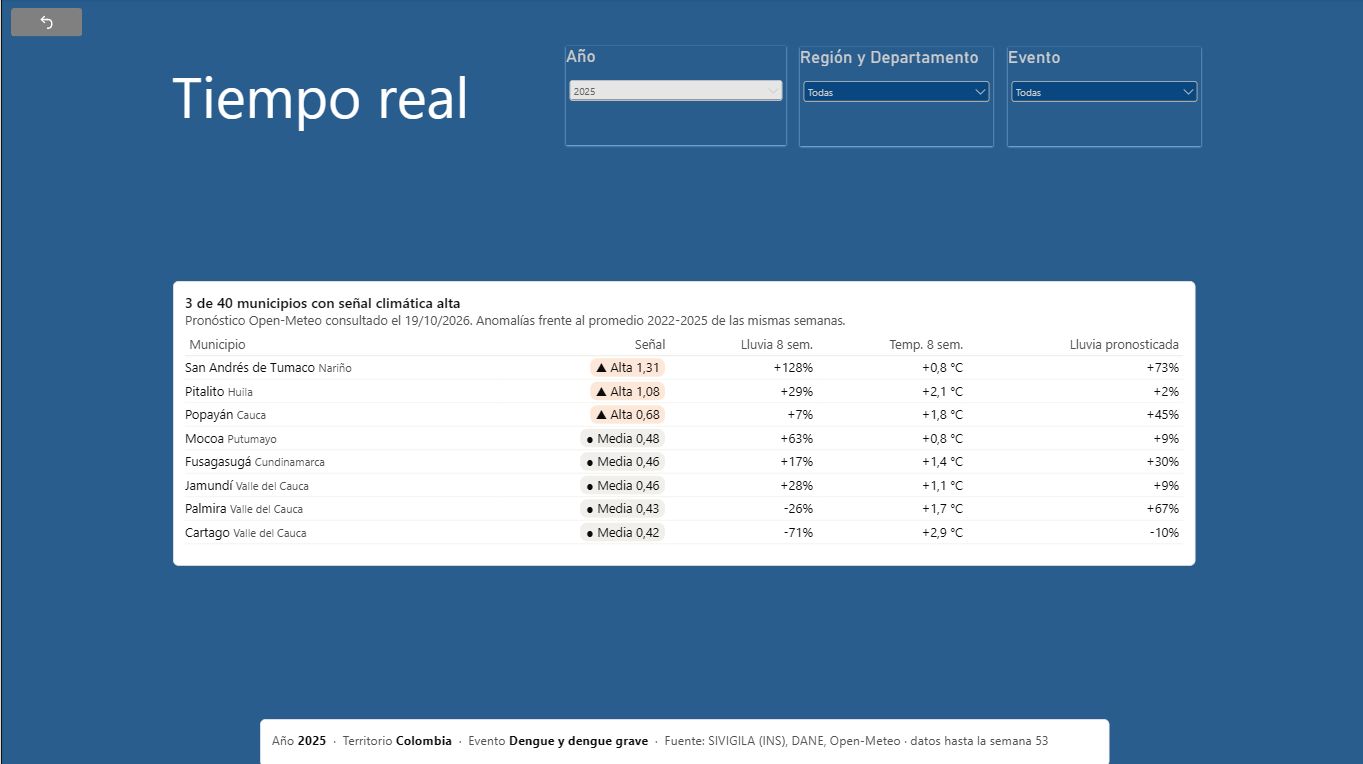

Layout of this report page (visuals, bound fields, positions):
{"tool":"powerbi","page":{"name":"Página 5","canvas":[1920,1080],"ordinal":4},"visuals":[{"type":"htmlContent443BE3AD55E043BF878BED274D3A6855","fields":{"content":["_Medidas.HTML Contexto"]},"box":[363.3,1012.5,1193.4,67.1],"z":0},{"type":"htmlContent443BE3AD55E043BF878BED274D3A6855","fields":{"content":["_Medidas.HTML P5 Alerta Climatica"]},"box":[242.2,396.8,1435.6,399.8],"z":1},{"type":"textbox","box":[197,83.2,504.8,116.7],"z":2},{"type":"slicer","title":"Región y Departamento","fields":{"Values":["dim_departamento.region","dim_departamento.departamento"]},"box":[1121.9,68.6,271.4,138.6],"z":4},{"type":"slicer","title":"Evento","fields":{"Values":["dim_evento.evento"]},"box":[1413.7,68.6,271.4,138.6],"z":5},{"type":"actionButton","box":[14.6,14.6,100,40],"z":6},{"type":"slicer","title":"Año","fields":{"Values":["dim_tiempo.anio"]},"box":[793.7,68.1,309.3,138.6],"z":7}]}

Visuals, with their boxes in screenshot pixels (x1, y1, x2, y2), scaled from the page's 1920x1080 canvas onto the 1363x764 screenshot:
htmlContent443BE3AD55E043BF878BED274D3A6855 - _Medidas.HTML Contexto: pyautogui.locateOnScreen(258, 716, 1105, 763)
htmlContent443BE3AD55E043BF878BED274D3A6855 - _Medidas.HTML P5 Alerta Climatica: pyautogui.locateOnScreen(172, 281, 1191, 564)
textbox: pyautogui.locateOnScreen(140, 59, 498, 141)
"Región y Departamento" slicer: pyautogui.locateOnScreen(796, 49, 989, 147)
"Evento" slicer: pyautogui.locateOnScreen(1004, 49, 1196, 147)
actionButton: pyautogui.locateOnScreen(10, 10, 81, 39)
"Año" slicer: pyautogui.locateOnScreen(563, 48, 783, 146)
